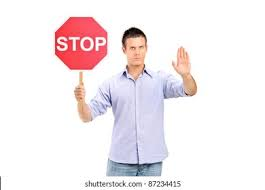stop sign: (54, 14, 110, 71)
